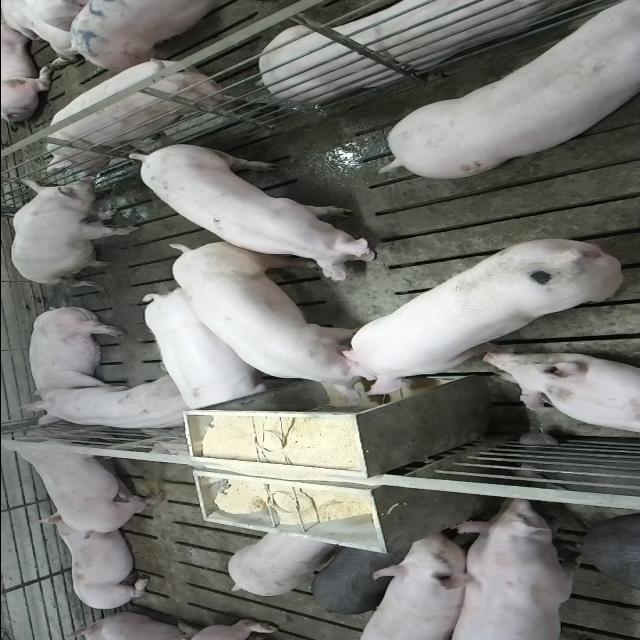Feeding: (334, 235, 626, 400), (166, 239, 384, 407)
Lateral_lying: (22, 304, 128, 402)
Sitting: (8, 175, 138, 285)
Standing: (382, 0, 640, 176), (126, 142, 384, 280), (44, 60, 258, 176), (444, 498, 596, 639), (0, 430, 168, 539), (139, 284, 277, 412), (66, 0, 274, 70), (357, 531, 471, 637), (309, 538, 409, 614), (225, 530, 338, 596), (573, 518, 637, 596)
Sternal_lying: (258, 0, 609, 100), (481, 352, 640, 438), (37, 518, 155, 612), (25, 376, 193, 434)
